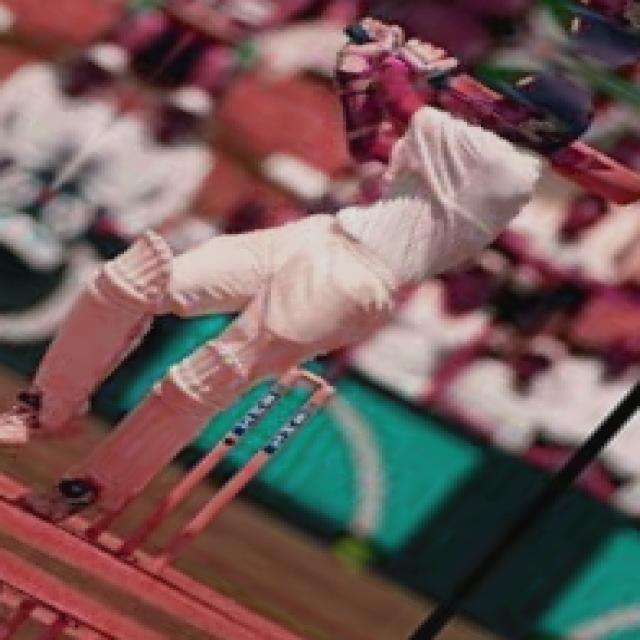toe: (618, 179, 636, 208)
